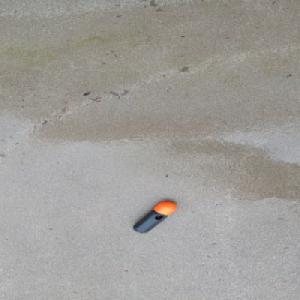PlasticPart: (131, 201, 177, 233)
